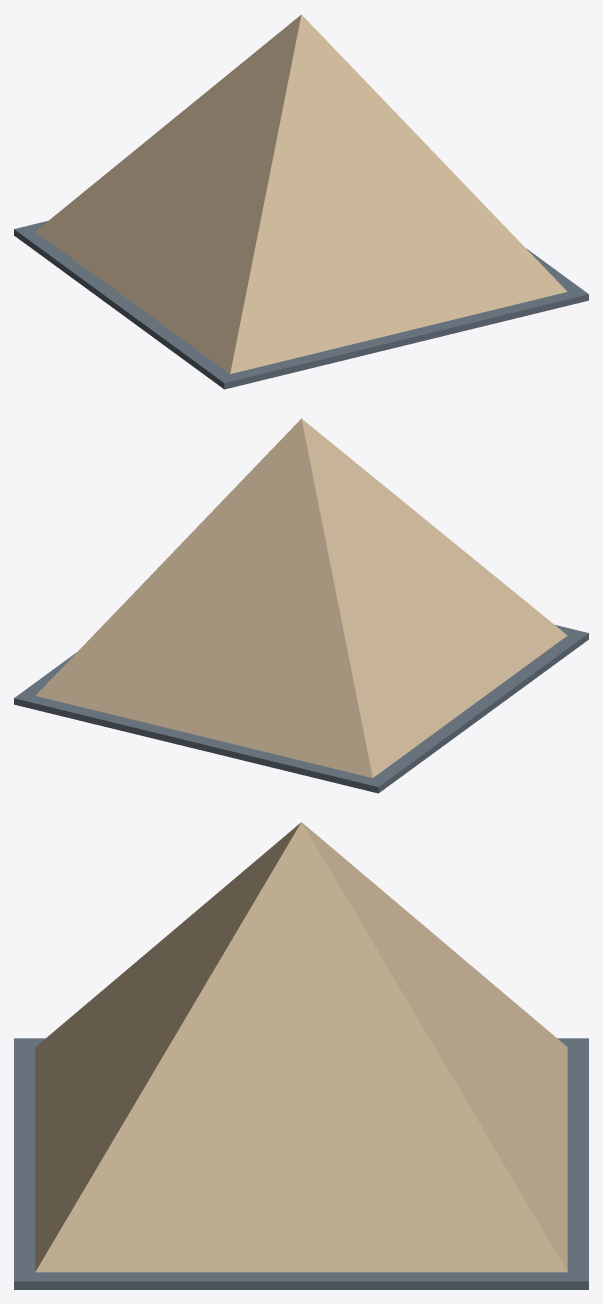
Rendered from sample.glb.
The picture shows the model from 3 angles, top to bottom: view 1: azimuth 30°, elevation 25°; view 2: azimuth 150°, elevation 25°; view 3: azimuth 270°, elevation 25°; orthographic projection. The views are drawn at different scales.
Visible parts, largest first — view 1: four_faces, DISPLAY_plinth; view 2: four_faces, DISPLAY_plinth; view 3: four_faces, DISPLAY_plinth.
Part boxes in pixels (x1,y1,x2,y2): four_faces: (35,14,567,373); DISPLAY_plinth: (14,221,588,389); four_faces: (35,418,567,777); DISPLAY_plinth: (14,625,588,793); four_faces: (35,822,567,1272); DISPLAY_plinth: (14,1038,588,1289).
Bounding box in the file's own units: 10.8 × 7.18 × 10.8.
